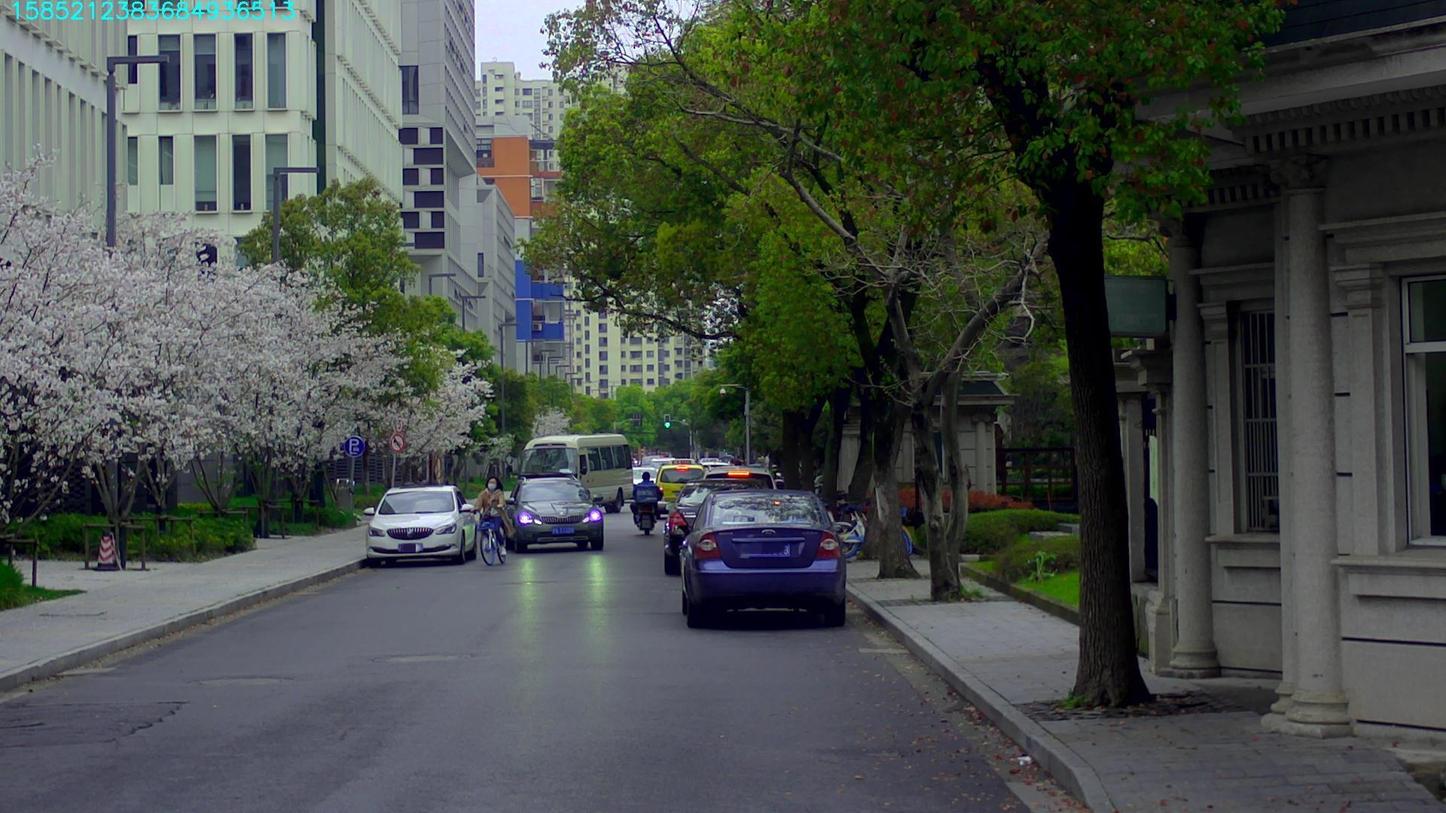green: (664, 420, 670, 428)
